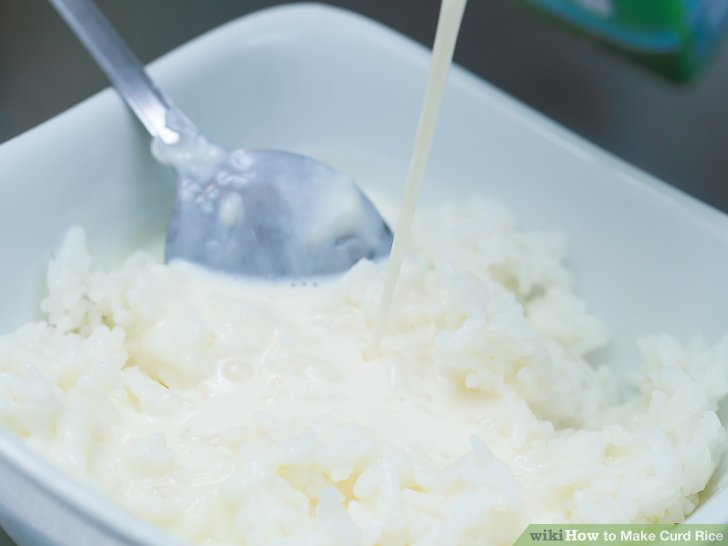plain rice: (30, 210, 705, 529)
